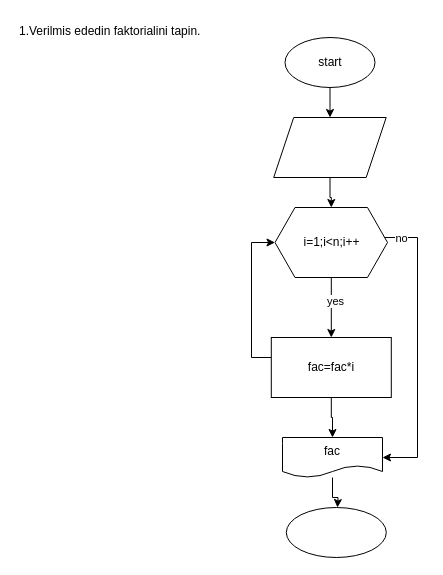
Some shapes in this 443 by 575 pixel diagram are drawn without their labels. The box of each missing label's shape, as (x1, y1, x2, y2) in pixels:
end: (285, 506, 386, 558)
n fac=1: (273, 116, 386, 178)
